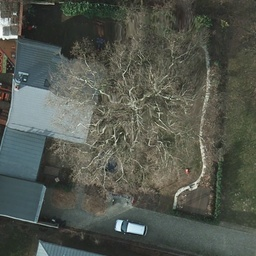car: (116, 219, 145, 236)
